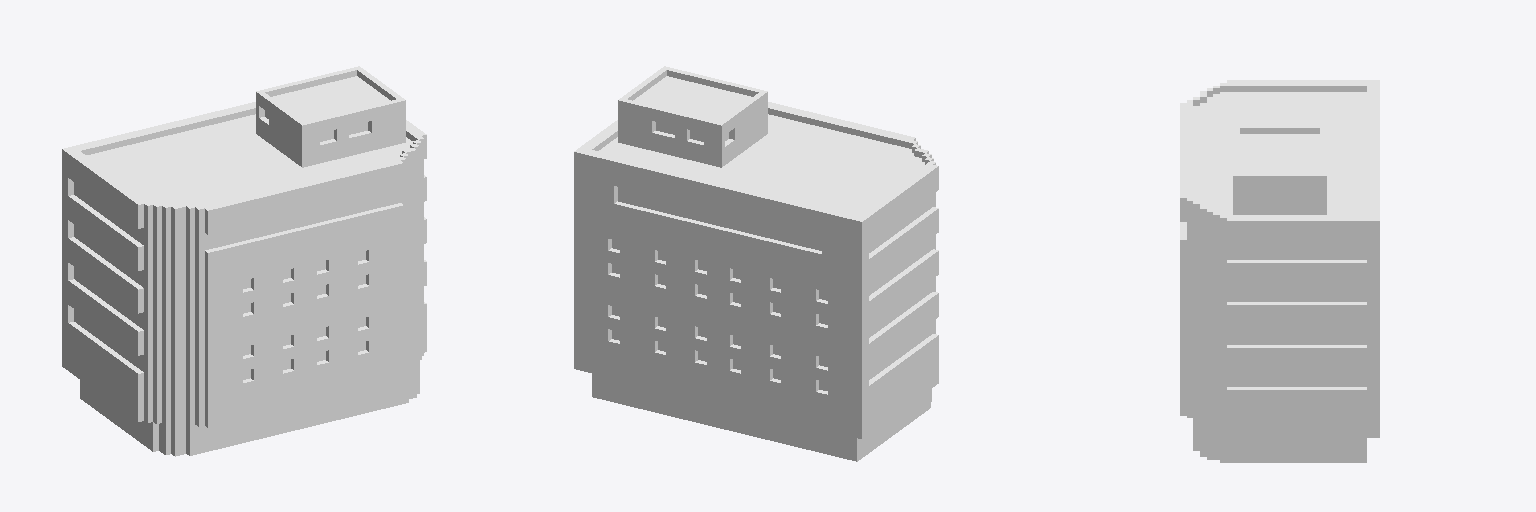
File: Third.obj
The picture shows the model from 3 angles: view 1: azimuth 30°, elevation 25°; view 2: azimuth 150°, elevation 25°; view 3: azimuth 270°, elevation 25°; orthographic projection.
Parts seen in each view (by area): view 1: Third; view 2: Third; view 3: Third.
Part boxes in pixels (x1,y1,x2,y2): Third: (62,66,426,456); Third: (574,66,938,461); Third: (1180,80,1379,462).
Bounding box in the file's own units: 50 × 47 × 30.